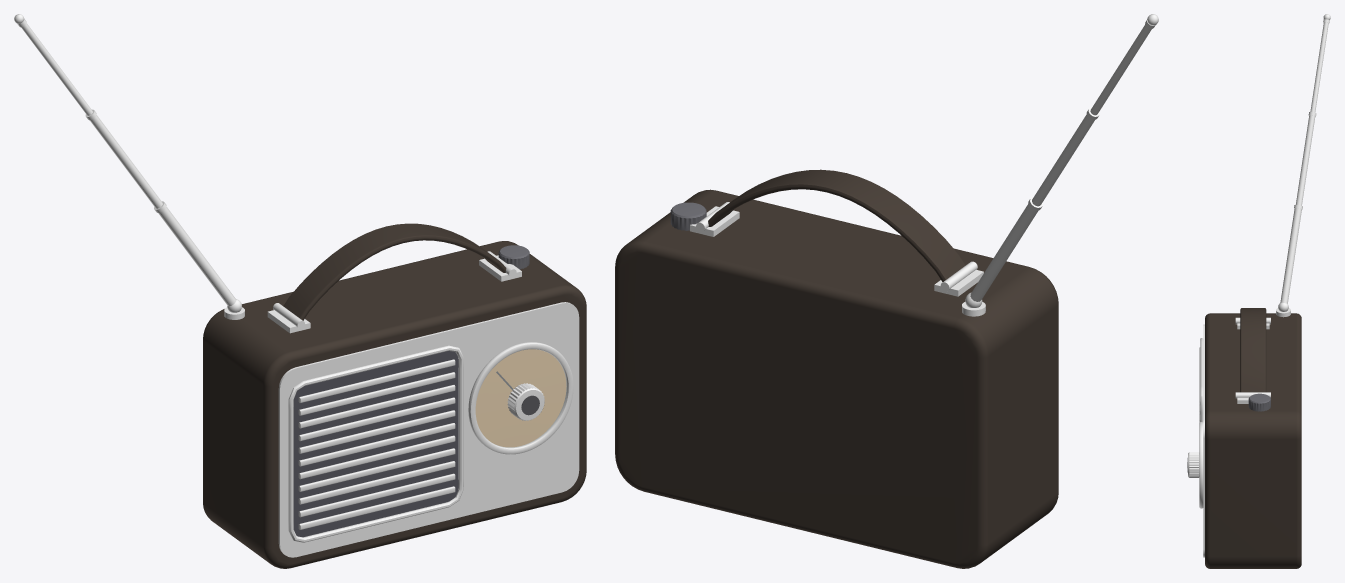
Rendered from Noisemaker.fbx.
3 views of the same model, side by side, from view 1: azimuth 30°, elevation 25°; view 2: azimuth 150°, elevation 25°; view 3: azimuth 270°, elevation 25° (orthographic). The views are drawn at different scales.
Parts seen in each view (by area): view 1: Radio, Dial; view 2: Radio; view 3: Radio.
Boxes of the visible parts, bbox=[...] form: Radio: bbox=[14, 14, 586, 568]; Dial: bbox=[475, 349, 566, 447]; Radio: bbox=[615, 14, 1158, 568]; Radio: bbox=[1187, 14, 1330, 568].
Size of the model in its own units: 0.38 by 0.4037 by 0.1332.
